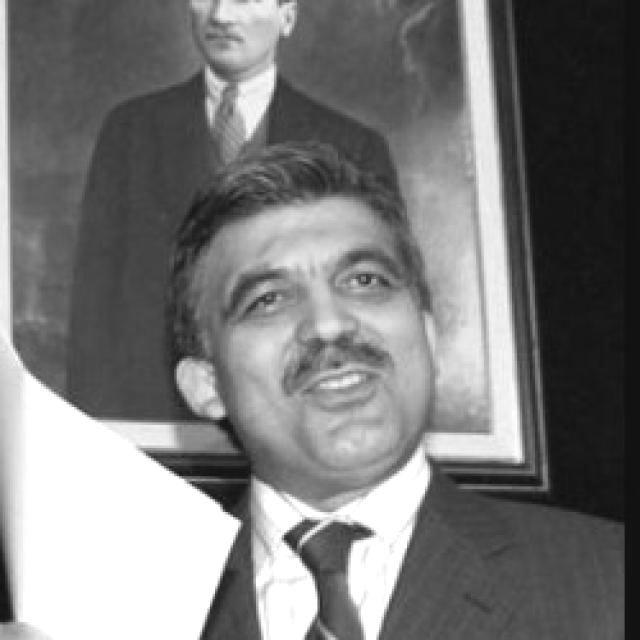real: (171, 156, 442, 484), (221, 257, 403, 324)
